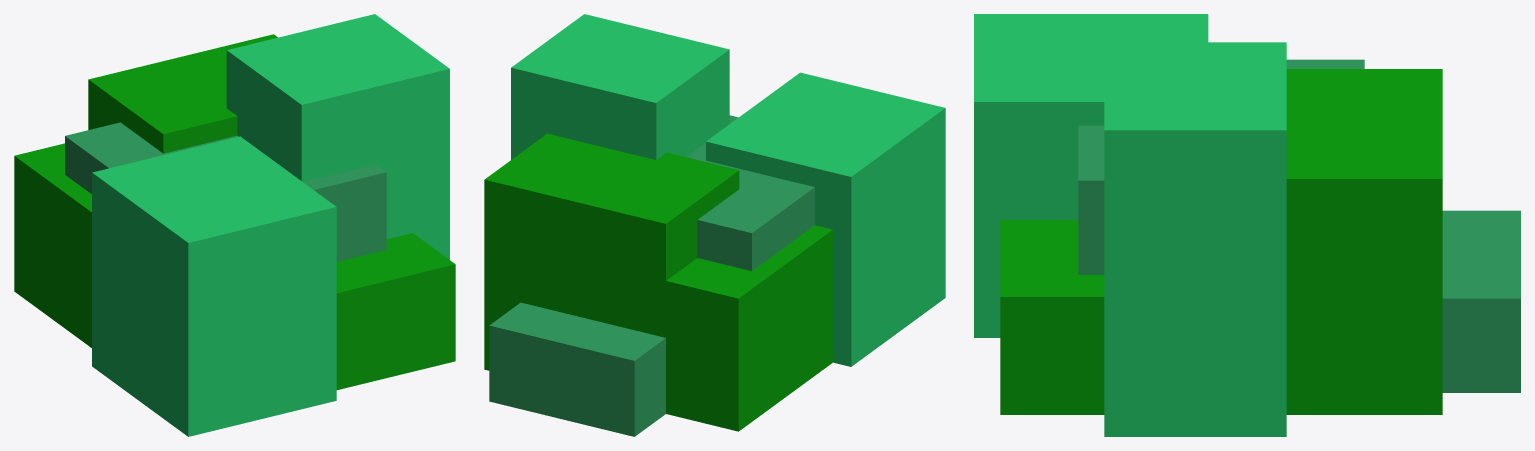
Rendered from GRock3.dae.
3 views of the same model, side by side, from view 1: azimuth 30°, elevation 25°; view 2: azimuth 150°, elevation 25°; view 3: azimuth 270°, elevation 25° (orthographic). The views are drawn at different scales.
Visible parts, largest first — view 1: GRock3; view 2: GRock3; view 3: GRock3.
Boxes of the visible parts, x1,y1,x2,y2 form: GRock3: [14, 14, 455, 436]; GRock3: [484, 14, 945, 436]; GRock3: [974, 14, 1520, 436].
Size of the model in its own units: 1.7 by 1.3 by 2.1.
1 material, 1 textured.
